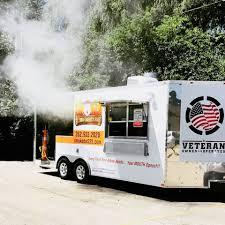smoke: (0, 0, 108, 129)
